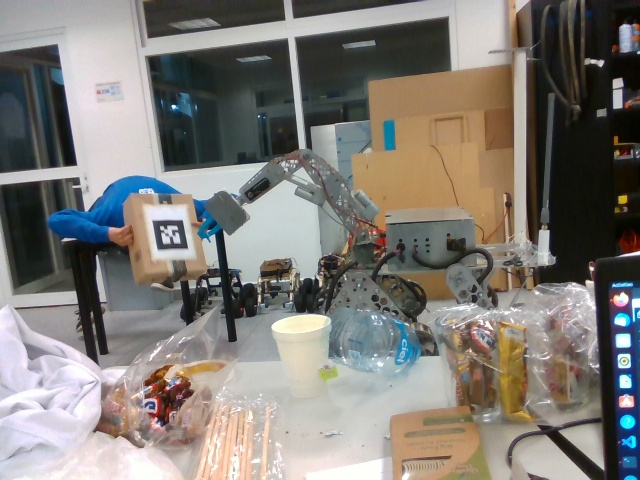ar2: (149, 214, 189, 254)
